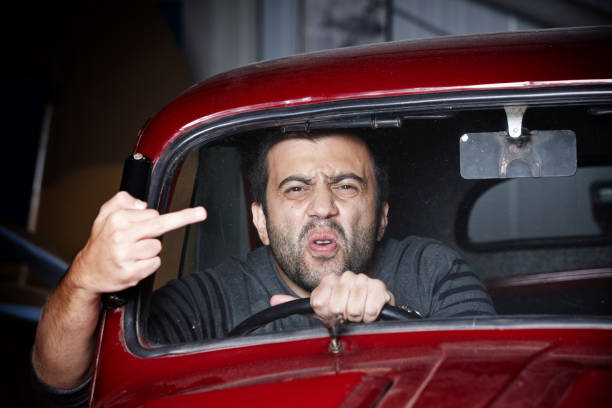insulting_gesture: (73, 190, 207, 290)
